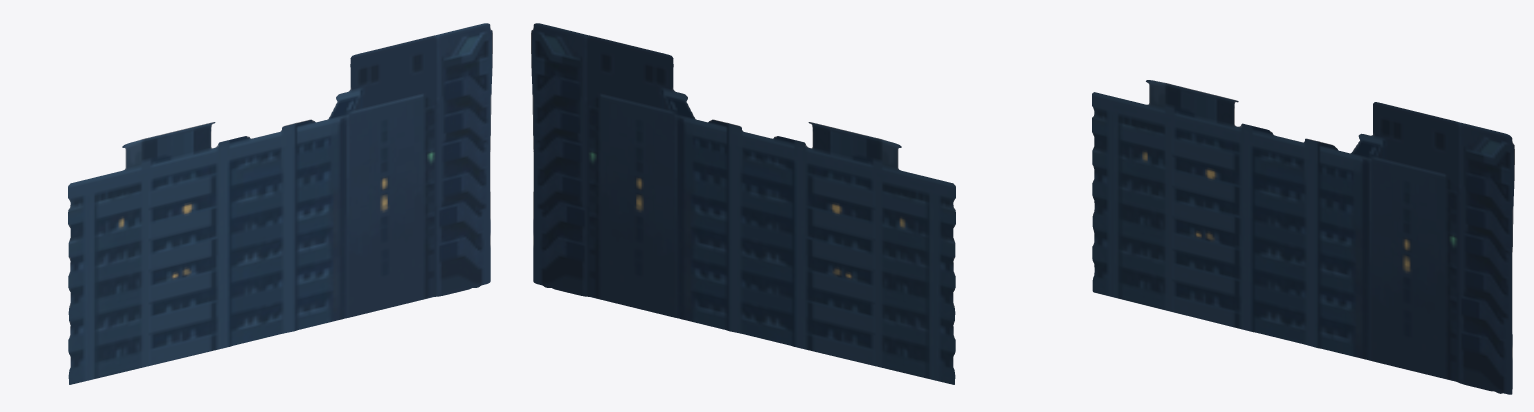
File: HuBian_NightFangzi10_fbx.FBX
3 renders of one model, left to right at view 1: azimuth 30°, elevation 25°; view 2: azimuth 150°, elevation 25°; view 3: azimuth 330°, elevation 25°, orthographic.
Parts seen in each view (by area): view 1: Object056; view 2: Object056; view 3: Object056.
Part boxes in pixels (left/top/right/bottom): Object056: left=68, top=23, right=492, bottom=384; Object056: left=531, top=23, right=955, bottom=384; Object056: left=1092, top=80, right=1514, bottom=394.
Size of the model in its own units: 3.81 by 2.03 by 4.33e-07.
1 material, 1 textured.
